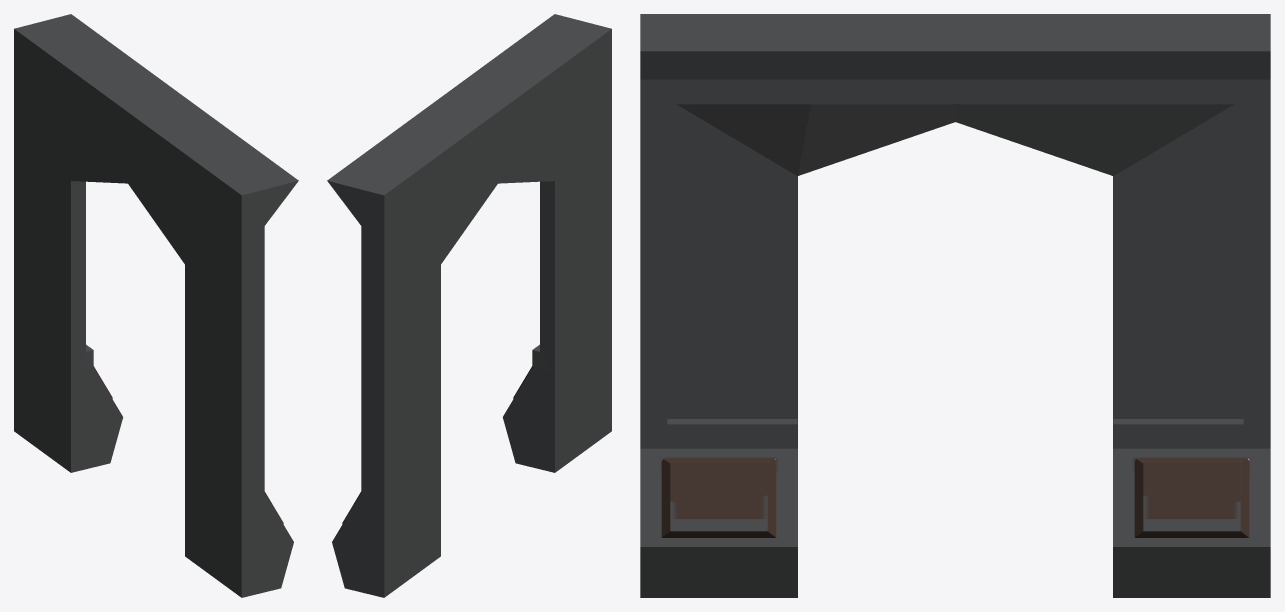
File: Door.fbx
3 views of the same model, side by side, from view 1: azimuth 30°, elevation 25°; view 2: azimuth 150°, elevation 25°; view 3: azimuth 270°, elevation 25° (orthographic). The views are drawn at different scales.
Visible parts, largest first — view 1: Wall; view 2: Wall; view 3: Wall.
Part boxes in pixels (<box>): Wall: <box>14,14,298,597</box>; Wall: <box>327,14,611,597</box>; Wall: <box>640,14,1270,597</box>.
Bounding box in the file's own units: 290 × 1954 × 2000.
